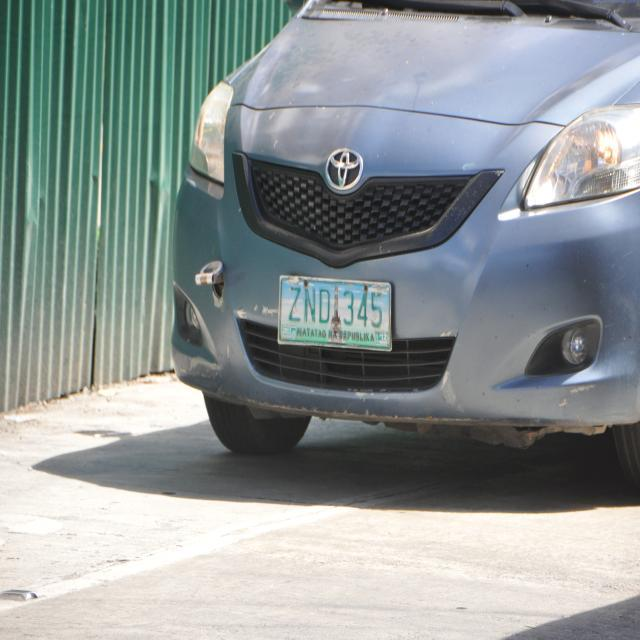LicensePlate: (269, 272, 408, 359)
